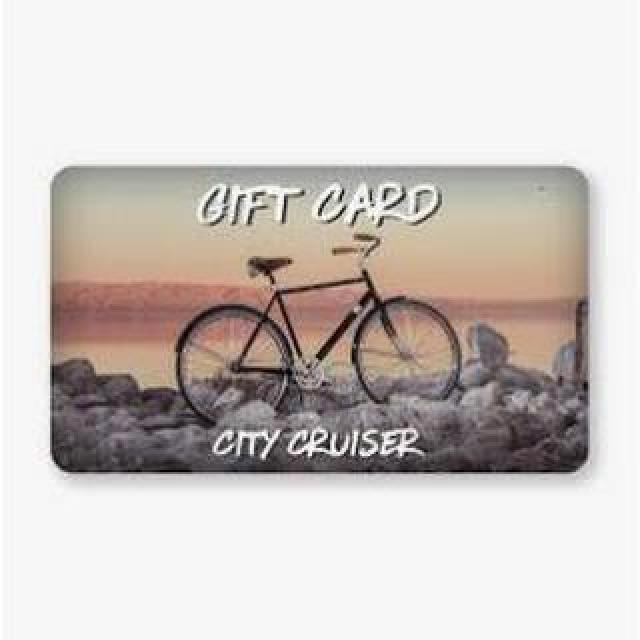Person: (176, 230, 464, 414)
